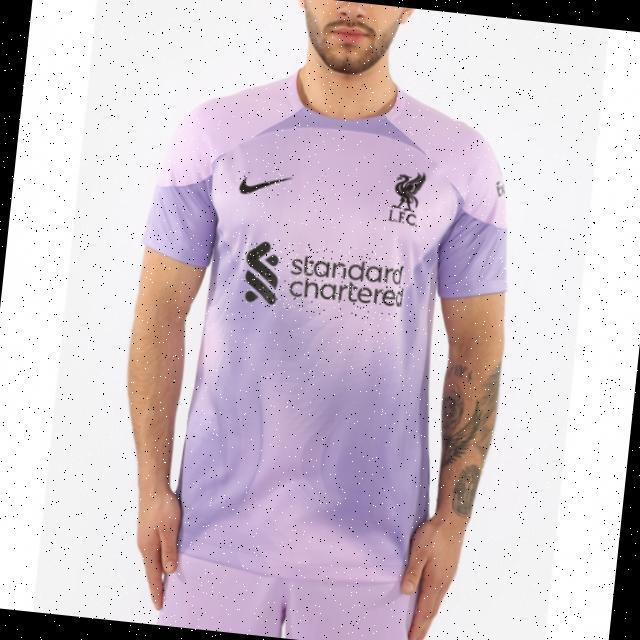Nike: (236, 169, 294, 200)
Standard Chartered: (238, 236, 408, 323)
